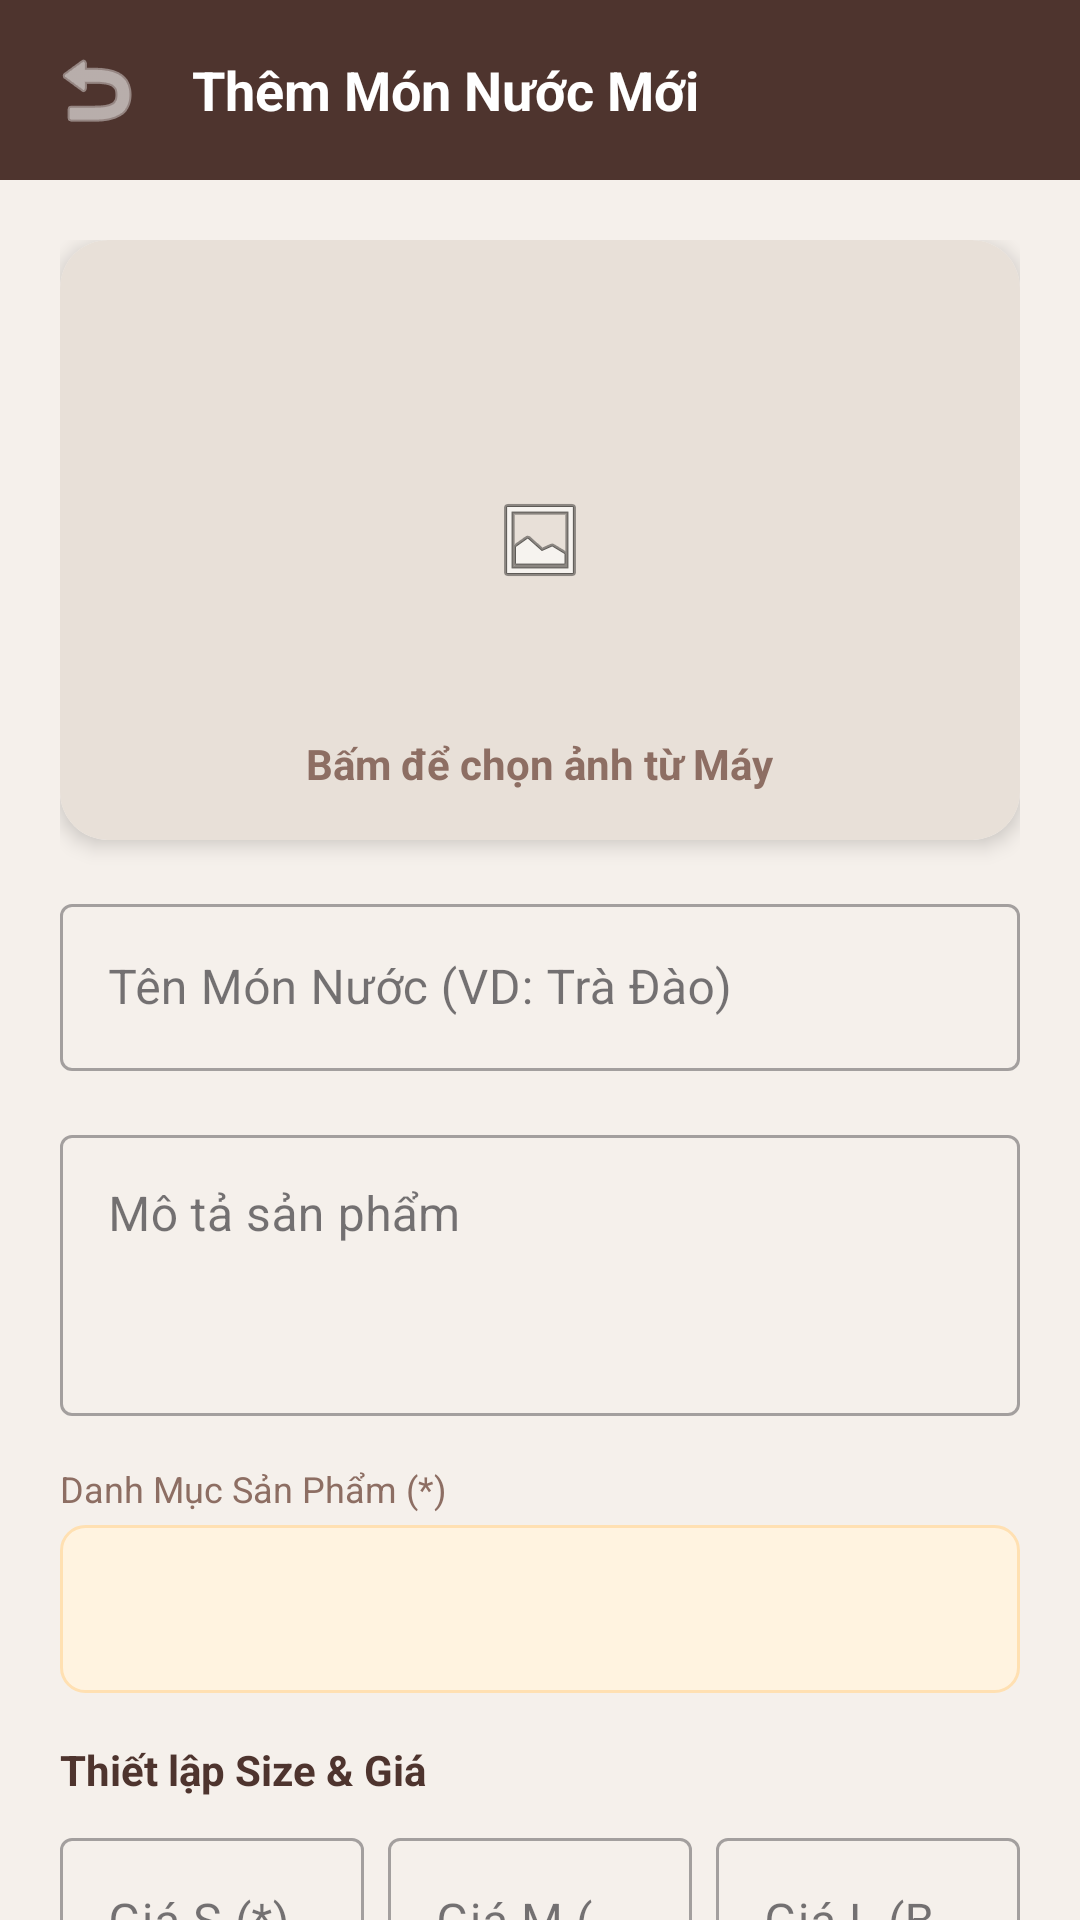

Named icons in this screenshot (1080*1920) and their centers, [x,y]:
revert: [97,90]
